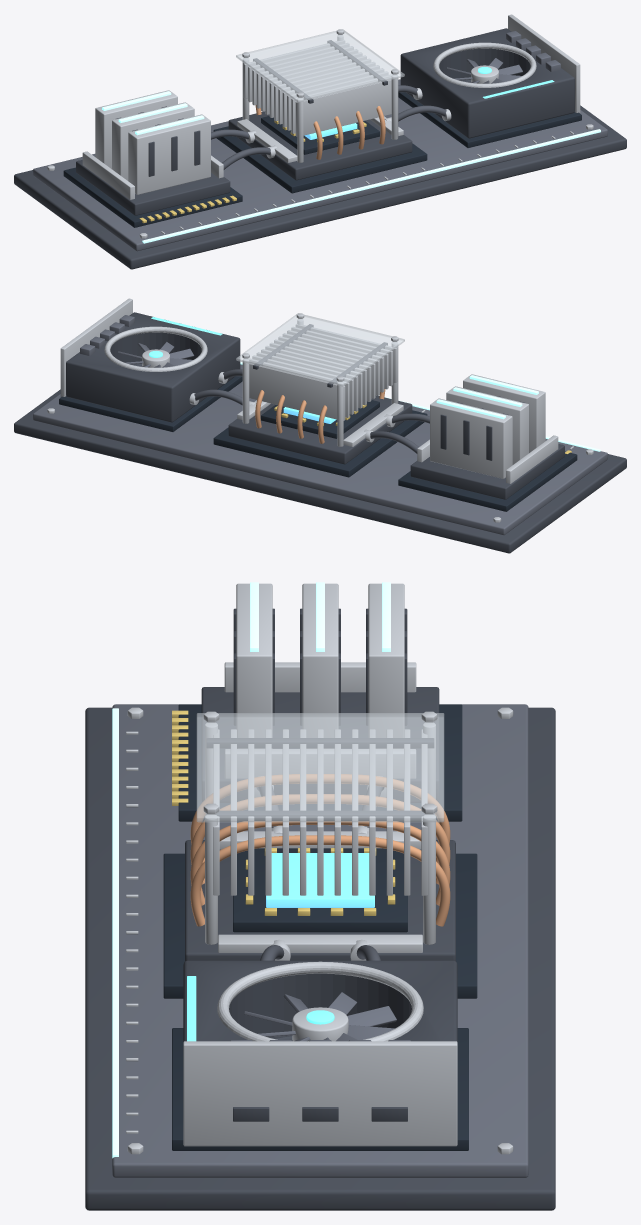
The model's file is kepler-core.glb.
3 views of the same model, one above another, from view 1: azimuth 30°, elevation 25°; view 2: azimuth 150°, elevation 25°; view 3: azimuth 270°, elevation 25° (orthographic). The views are drawn at different scales.
Visible parts, largest first — view 1: Testbench_Deck, Testbench_SubBase, GPU_Shroud, Core_TopGlass, ShaderBank_Frame_0, Core_Coldplate, HeatsinkFin_-6, Core_SocketPCB, D3D12_Cradle, D3D12_CarrierPCB, Testbench_TrimFront, ShaderBank_Frame_1 (+24 smaller); view 2: Testbench_Deck, Testbench_SubBase, GPU_Shroud, Core_TopGlass, ShaderBank_Frame_2, Core_Coldplate, HeatsinkFin_6, Core_SocketPCB, D3D12_Cradle, D3D12_CarrierPCB, ShaderBank_Frame_1, ShaderBank_Frame_0 (+23 smaller); view 3: Testbench_Deck, Testbench_SubBase, GPU_IOBracket, Core_TopGlass, GPU_Shroud, Core_Coldplate, Core_DieSubstrate, D3D12_Cradle, Core_SocketPCB, D3D12_CarrierPCB, ShaderBank_Frame_0, ShaderBank_Frame_2 (+31 smaller).
Part boxes in pixels (x1=…): Testbench_Deck: x1=33, y1=79, x2=607, y2=251; Testbench_SubBase: x1=14, y1=105, x2=626, y2=269; GPU_Shroud: x1=400, y1=28, x2=574, y2=138; Core_TopGlass: x1=236, y1=29, x2=404, y2=102; ShaderBank_Frame_0: x1=128, y1=114, x2=210, y2=194; Core_Coldplate: x1=228, y1=111, x2=412, y2=180; HeatsinkFin_-6: x1=295, y1=79, x2=391, y2=136; Core_SocketPCB: x1=213, y1=126, x2=427, y2=193; D3D12_Cradle: x1=76, y1=160, x2=230, y2=215; D3D12_CarrierPCB: x1=63, y1=167, x2=242, y2=227; Testbench_TrimFront: x1=142, y1=129, x2=600, y2=243; ShaderBank_Frame_1: x1=112, y1=102, x2=194, y2=180; Testbench_Deck: x1=33, y1=364, x2=607, y2=535; Testbench_SubBase: x1=14, y1=389, x2=626, y2=553; GPU_Shroud: x1=66, y1=312, x2=240, y2=422; Core_TopGlass: x1=236, y1=313, x2=404, y2=386; ShaderBank_Frame_2: x1=430, y1=398, x2=512, y2=478; Core_Coldplate: x1=228, y1=395, x2=412, y2=464; HeatsinkFin_6: x1=249, y1=363, x2=345, y2=420; Core_SocketPCB: x1=213, y1=410, x2=427, y2=477; D3D12_Cradle: x1=410, y1=444, x2=564, y2=499; D3D12_CarrierPCB: x1=398, y1=451, x2=577, y2=511; ShaderBank_Frame_1: x1=446, y1=386, x2=528, y2=464; ShaderBank_Frame_0: x1=463, y1=374, x2=545, y2=452; Testbench_Deck: x1=112, y1=704, x2=528, y2=1177; Testbench_SubBase: x1=85, y1=707, x2=555, y2=1210; GPU_IOBracket: x1=183, y1=1041, x2=457, y2=1146; Core_TopGlass: x1=196, y1=713, x2=444, y2=822; GPU_Shroud: x1=183, y1=960, x2=457, y2=1041; Core_Coldplate: x1=185, y1=840, x2=455, y2=961; Core_DieSubstrate: x1=233, y1=848, x2=407, y2=932; D3D12_Cradle: x1=201, y1=687, x2=439, y2=802; Core_SocketPCB: x1=163, y1=853, x2=477, y2=998; D3D12_CarrierPCB: x1=178, y1=704, x2=462, y2=821; ShaderBank_Frame_0: x1=236, y1=583, x2=272, y2=748; ShaderBank_Frame_2: x1=368, y1=583, x2=404, y2=748.
Size of the model in its own units: 6.95 by 1.47 by 2.85.
